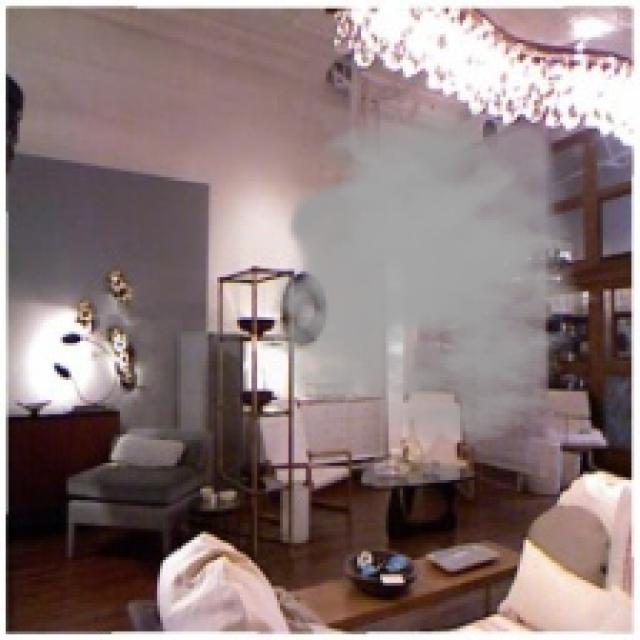smoke: (257, 103, 617, 446)
